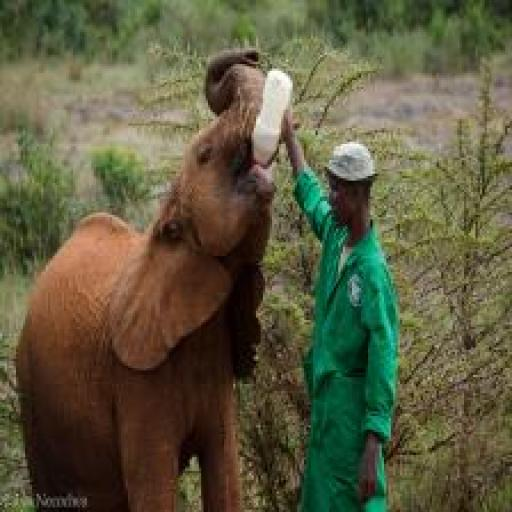Elephant: (14, 48, 300, 511)
